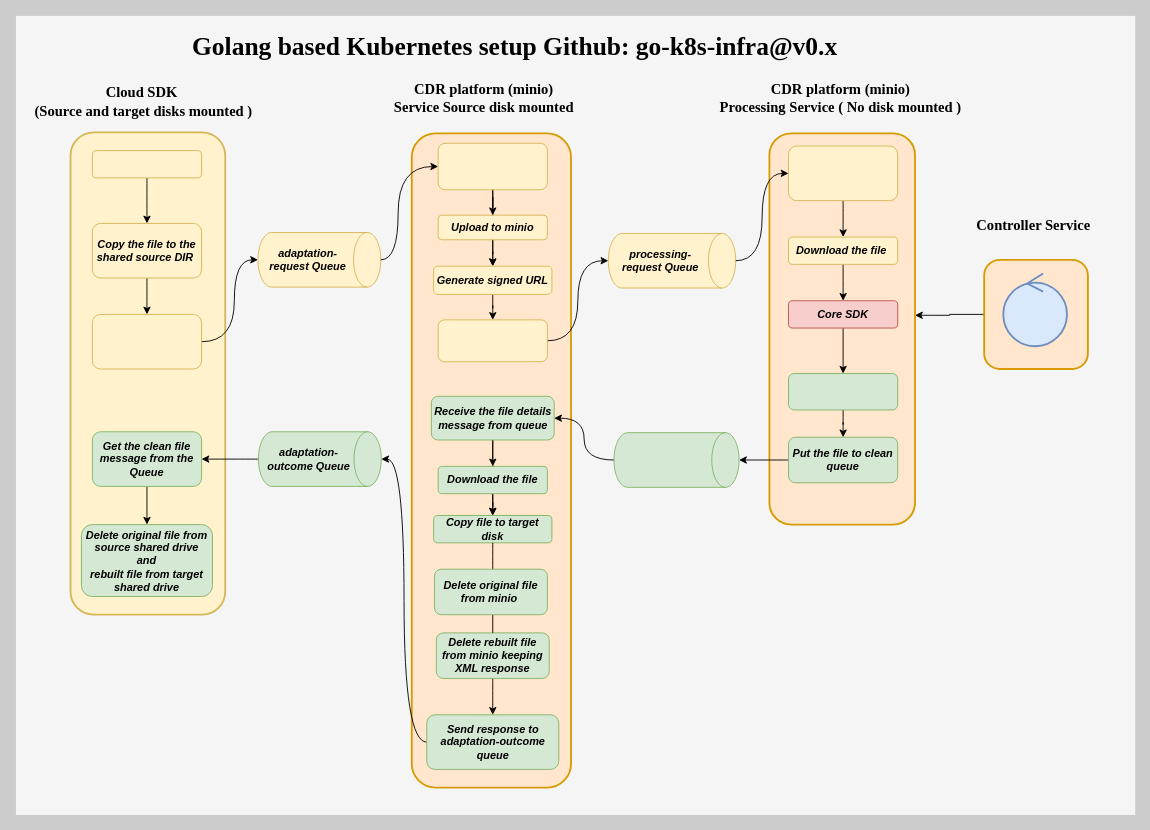
The diagram is 1150 pixels wide and 830 high, and some of its shapes have lost their labels. The box of each missing label's shape, as (x1, y1, x2, y2) in pixels:
Get incoming file: (91, 150, 202, 178)
Get the file details message from queue: (437, 142, 547, 190)
processing-outcome Queue: (613, 432, 739, 487)
Put the file to processing queue: (437, 319, 547, 362)
Recieve the file details message from the queue: (788, 145, 898, 201)
Restart Processing pods: (1002, 272, 1067, 347)
Send the file to the Rebuild Queue: (91, 313, 202, 369)
Upload response to minio: (788, 373, 898, 410)
